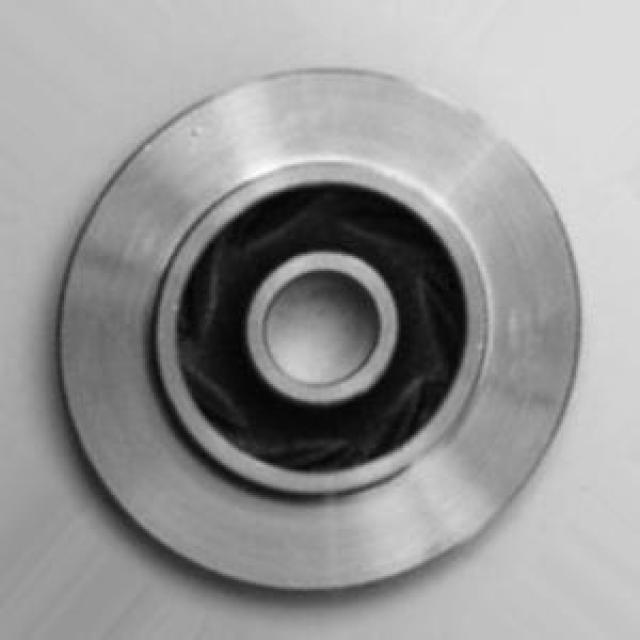Defect: (175, 122, 212, 149)
